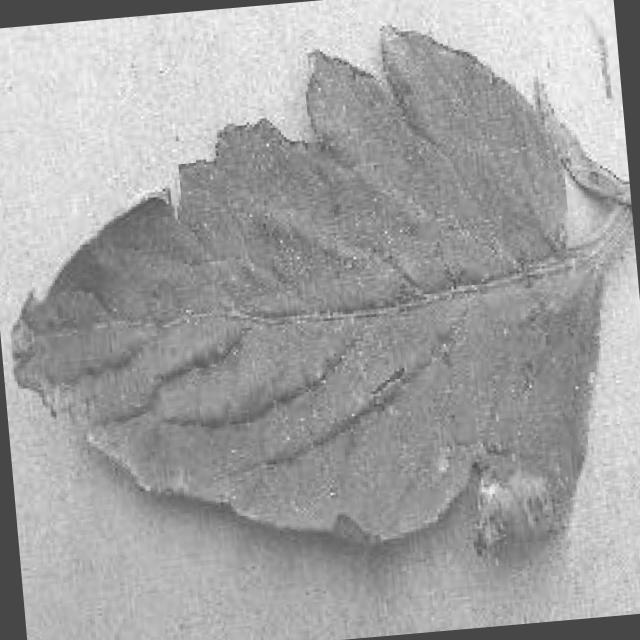bacterial spot: (9, 31, 609, 547)
